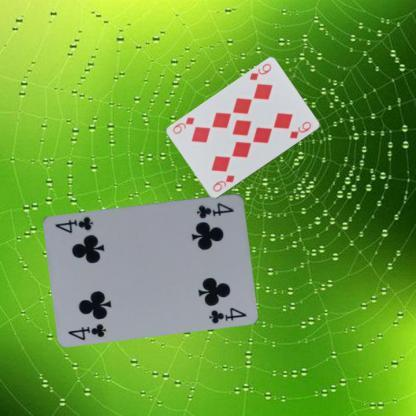4c: (66, 320, 107, 341), (194, 200, 236, 220)
9d: (210, 172, 235, 194), (246, 61, 272, 82)
